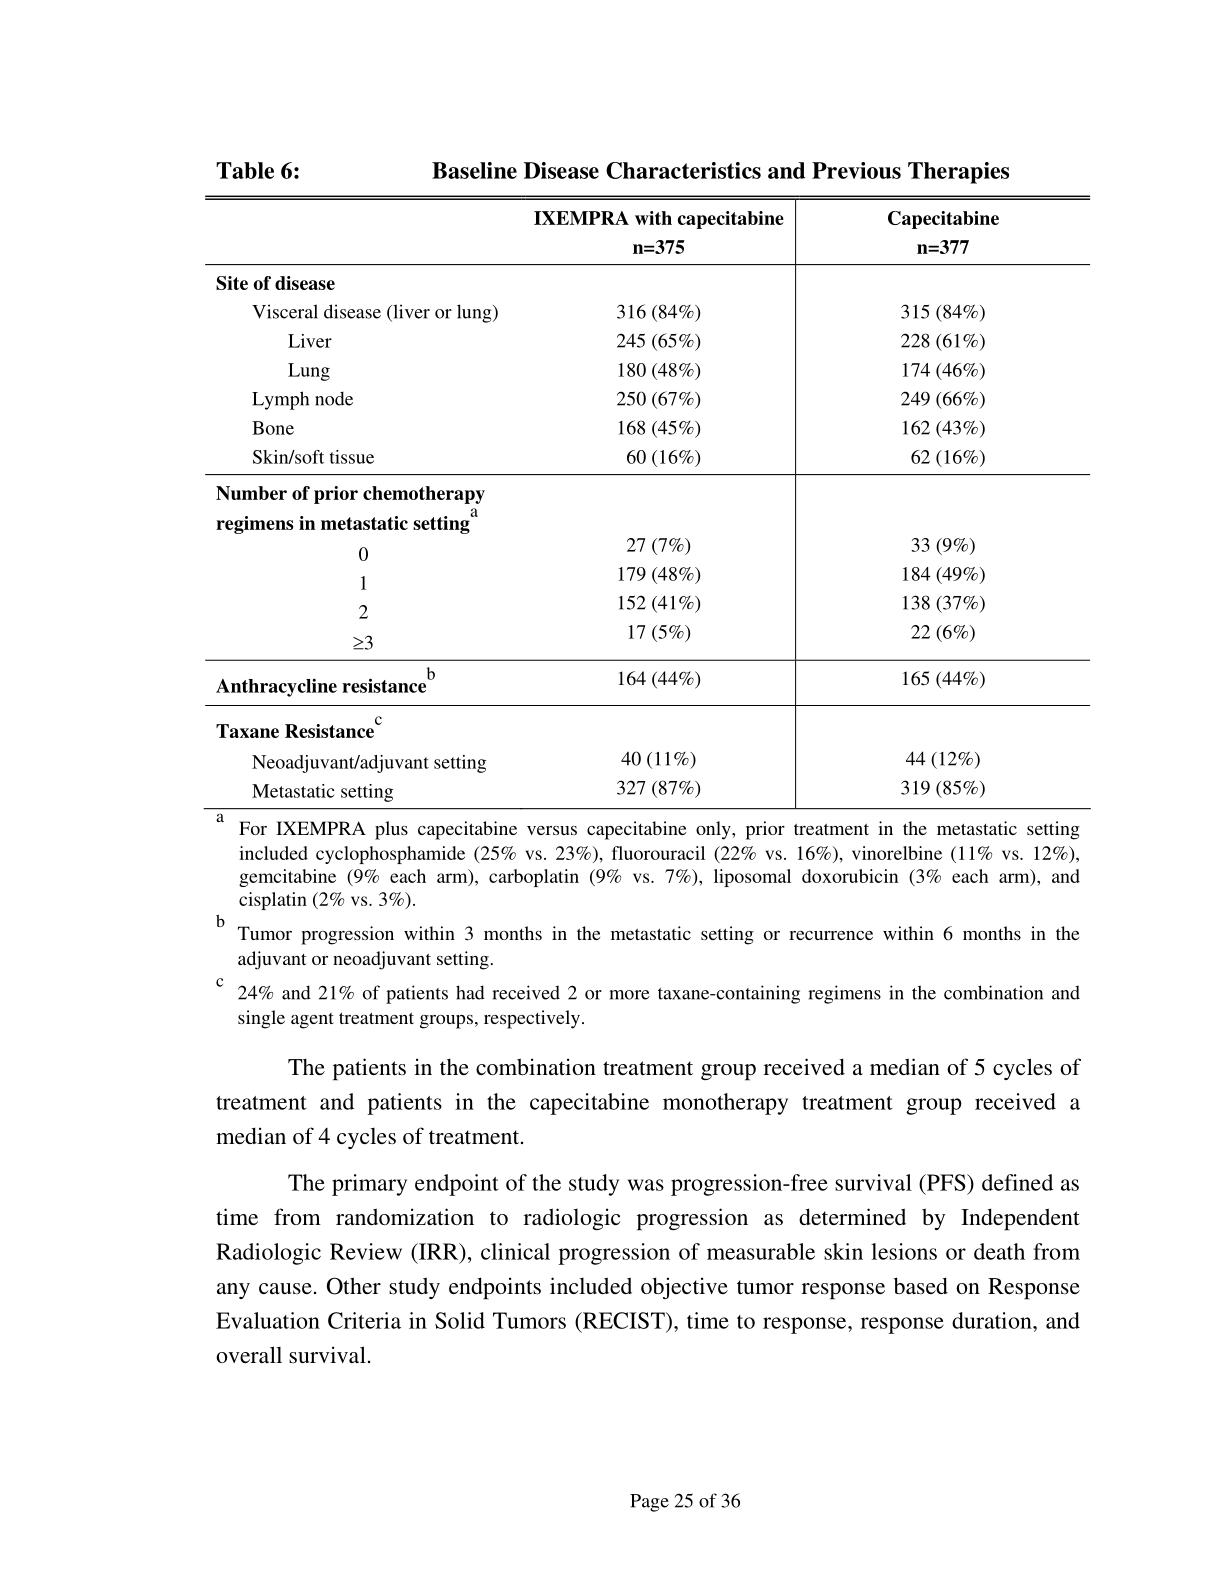partial_lined: (202, 192, 1095, 813)
